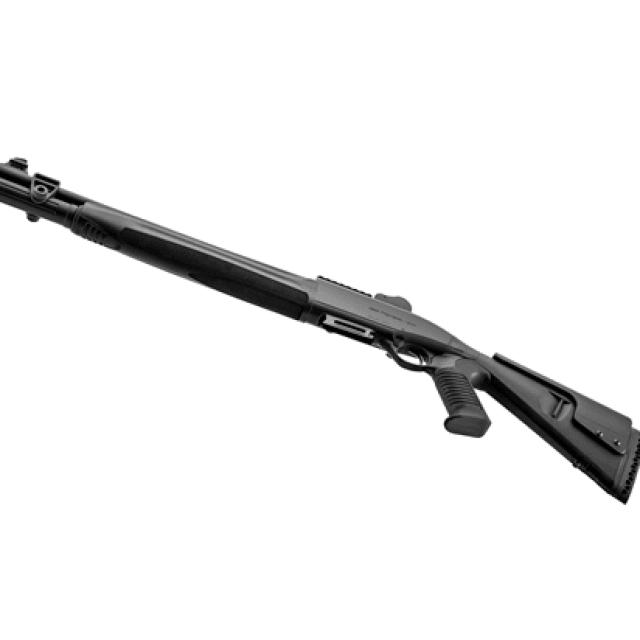Weapon: (0, 160, 640, 500)
